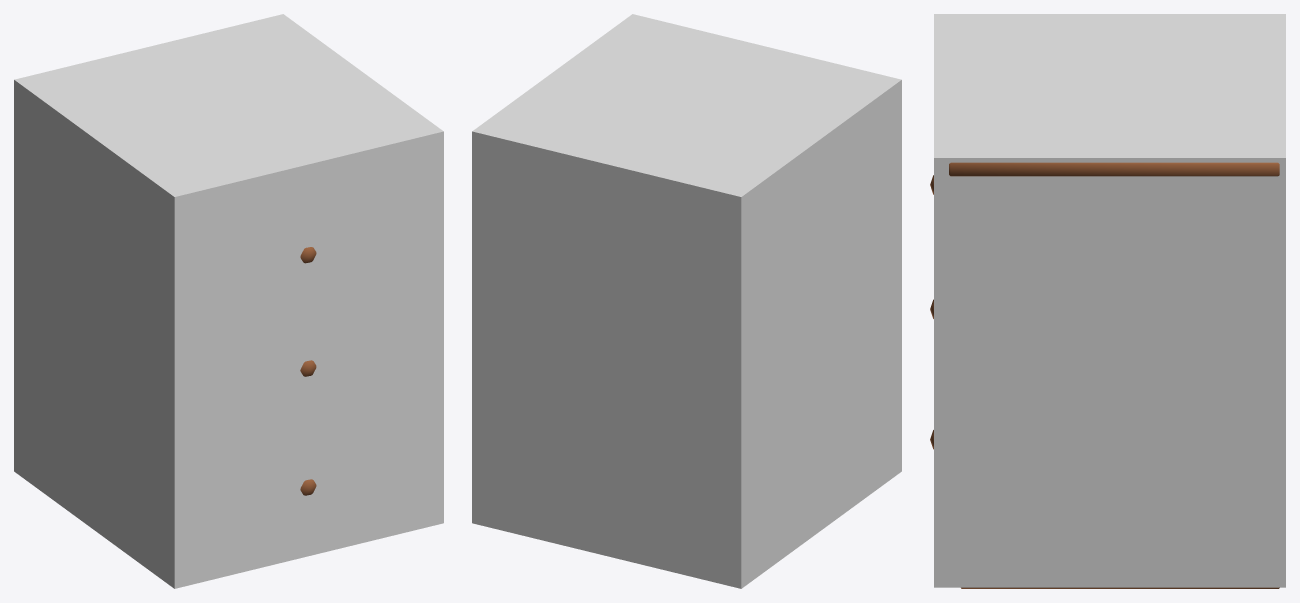
File: drawer-b.glb
3 renders of one model, left to right at view 1: azimuth 30°, elevation 25°; view 2: azimuth 150°, elevation 25°; view 3: azimuth 270°, elevation 25°, orthographic. The views are drawn at different scales.
Parts seen in each view (by area): view 1: Drawer B_col, Drawer B; view 2: Drawer B_col; view 3: Drawer B_col, Drawer B.
Part boxes in pixels (bbox=[...]): Drawer B_col: bbox=[14, 14, 443, 588]; Drawer B: bbox=[300, 247, 316, 495]; Drawer B_col: bbox=[472, 14, 901, 588]; Drawer B_col: bbox=[934, 14, 1285, 587]; Drawer B: bbox=[930, 162, 1279, 588].
Size of the model in its own units: 2.55 by 3.56 by 2.65.
